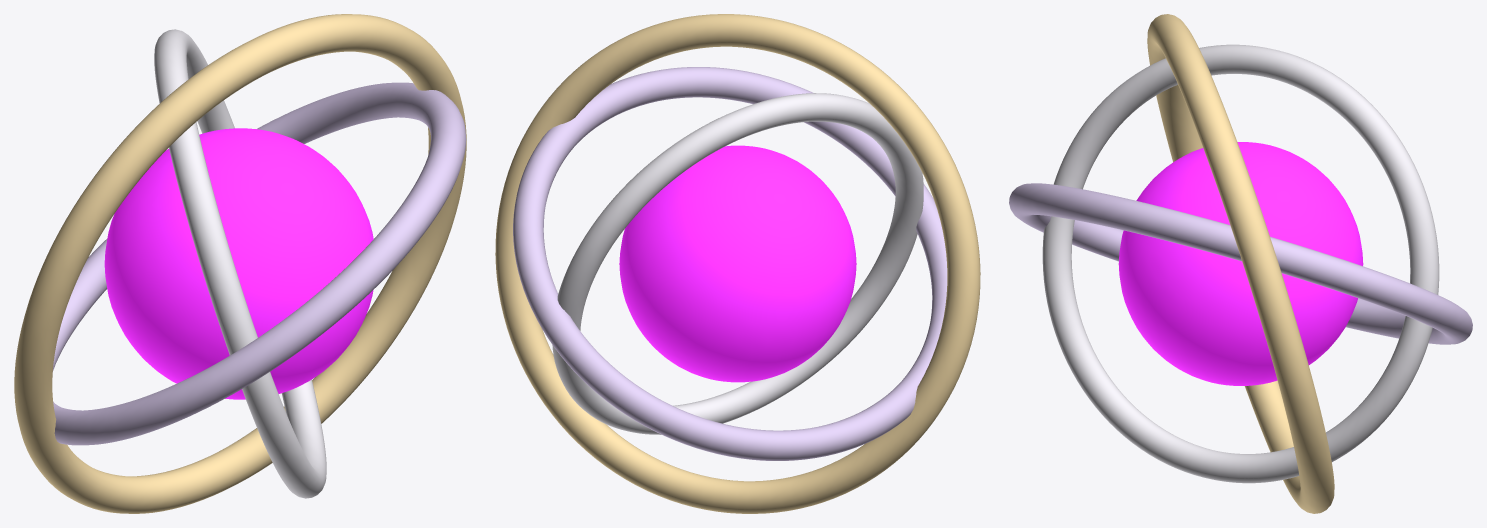
File: 011-gyro-rings.glb
The picture shows the model from 3 angles, left to right: view 1: azimuth 30°, elevation 25°; view 2: azimuth 150°, elevation 25°; view 3: azimuth 270°, elevation 25°; orthographic projection. The views are drawn at different scales.
Parts seen in each view (by area): view 1: ring_outer, orb, ring_mid, ring_inner; view 2: ring_outer, orb, ring_mid, ring_inner; view 3: orb, ring_inner, ring_outer, ring_mid.
Boxes of the visible parts, <box> form: ring_outer: <box>14,14,466,513</box>; orb: <box>104,128,373,399</box>; ring_mid: <box>52,82,466,445</box>; ring_inner: <box>154,29,326,498</box>; ring_outer: <box>495,14,980,513</box>; orb: <box>619,145,856,382</box>; ring_mid: <box>513,67,947,460</box>; ring_inner: <box>552,93,923,434</box>; orb: <box>1118,142,1363,385</box>; ring_inner: <box>1042,44,1439,483</box>; ring_outer: <box>1147,14,1334,513</box>; ring_mid: <box>1009,183,1472,344</box>.
Size of the model in its own units: 2.1 by 2.08 by 1.9.
